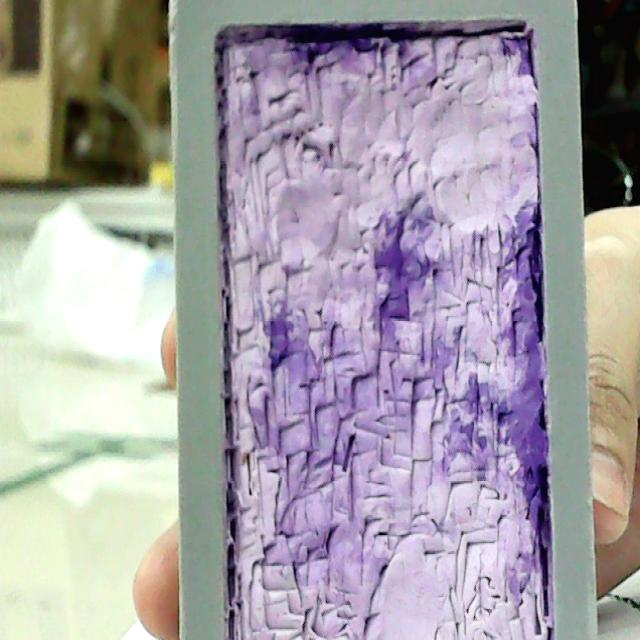block: (165, 0, 597, 640)
